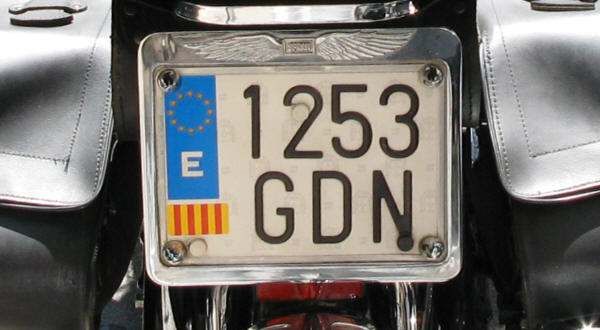license_plate: (155, 65, 446, 264)
